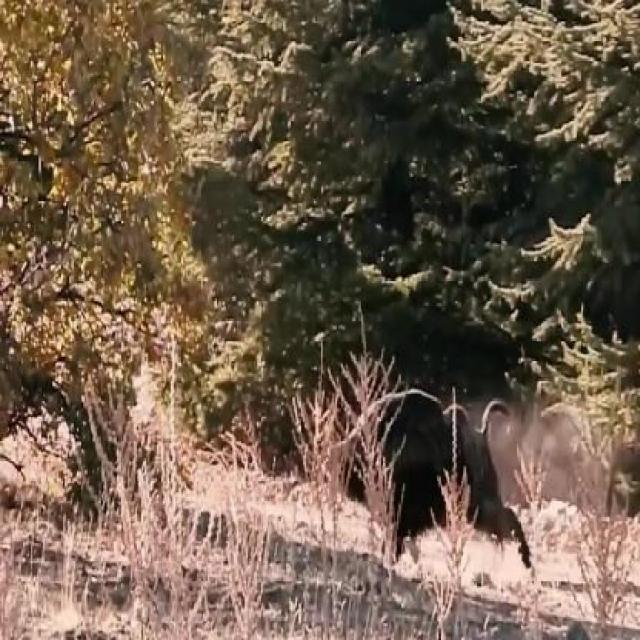pig: (329, 356, 545, 600)
